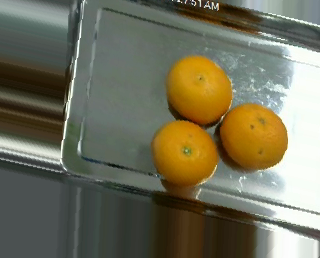Orange: (165, 55, 232, 124), (219, 103, 288, 170), (150, 120, 218, 185)
